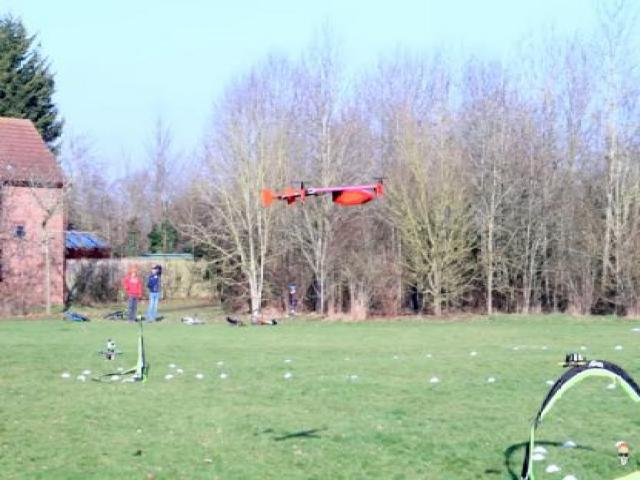uav: (255, 169, 394, 220)
